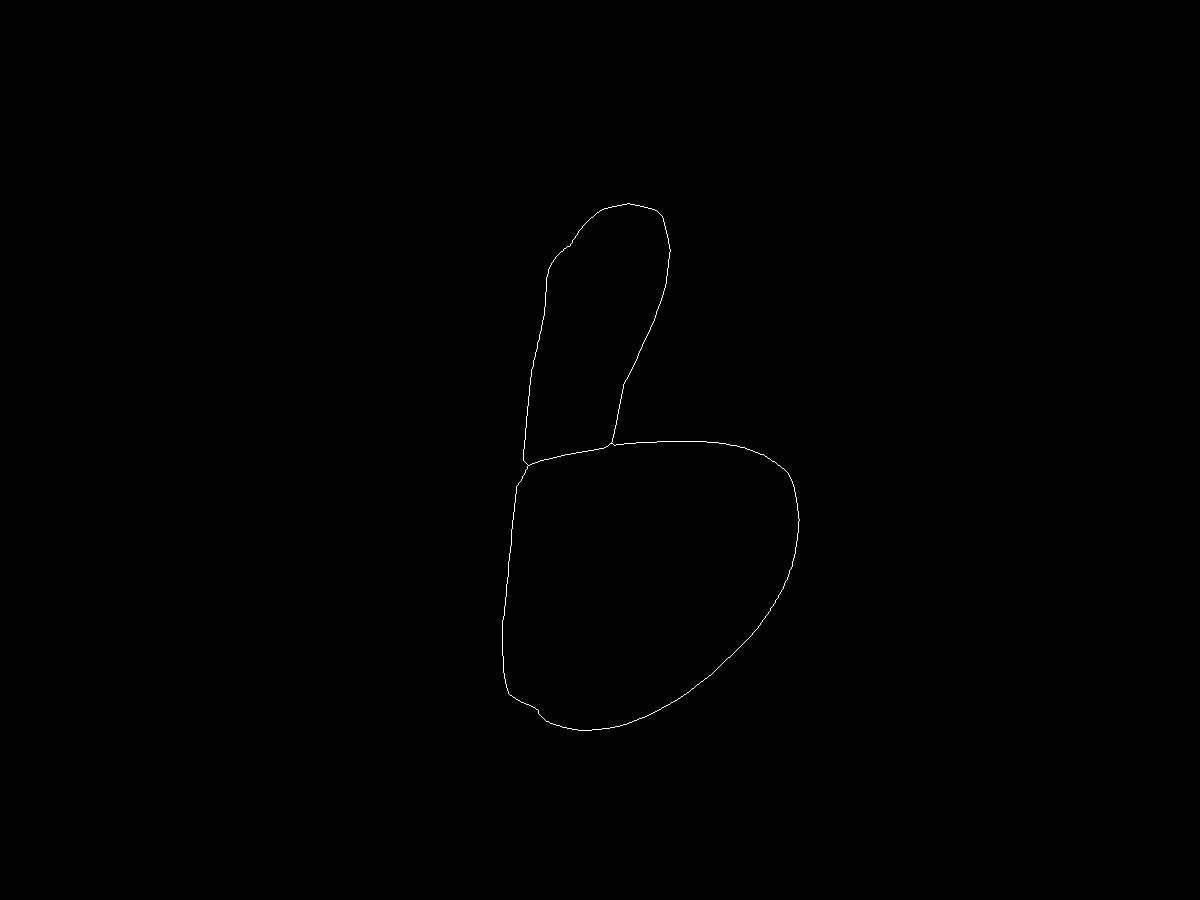dian1: (549, 248, 569, 268)
dian2: (515, 457, 535, 477)
dian3: (503, 684, 522, 703)
dian4: (607, 440, 628, 461)
